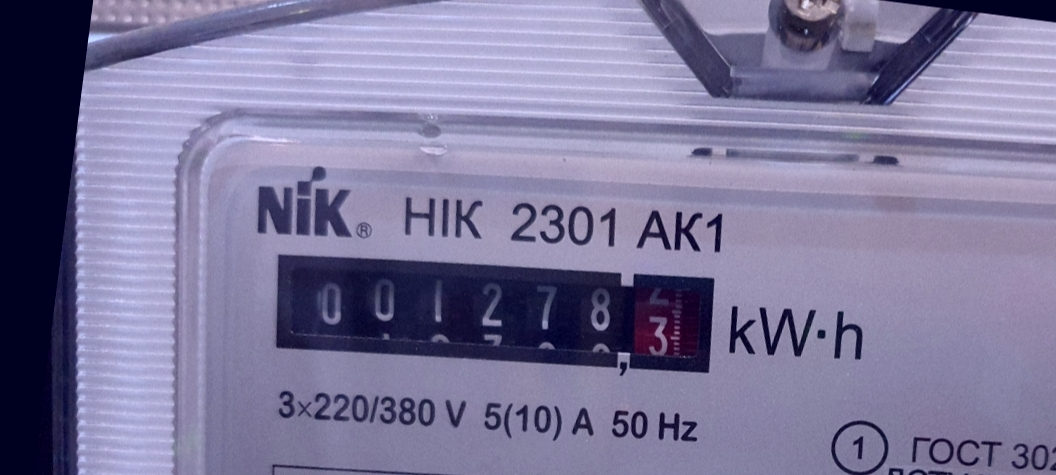0: (314, 277, 348, 328), (367, 275, 398, 324)
1: (426, 276, 449, 326)
2: (474, 279, 507, 329), (643, 285, 672, 309)
3: (641, 310, 672, 357)
7: (529, 281, 557, 332)
8: (583, 284, 615, 334)
screen: (246, 211, 737, 413)
